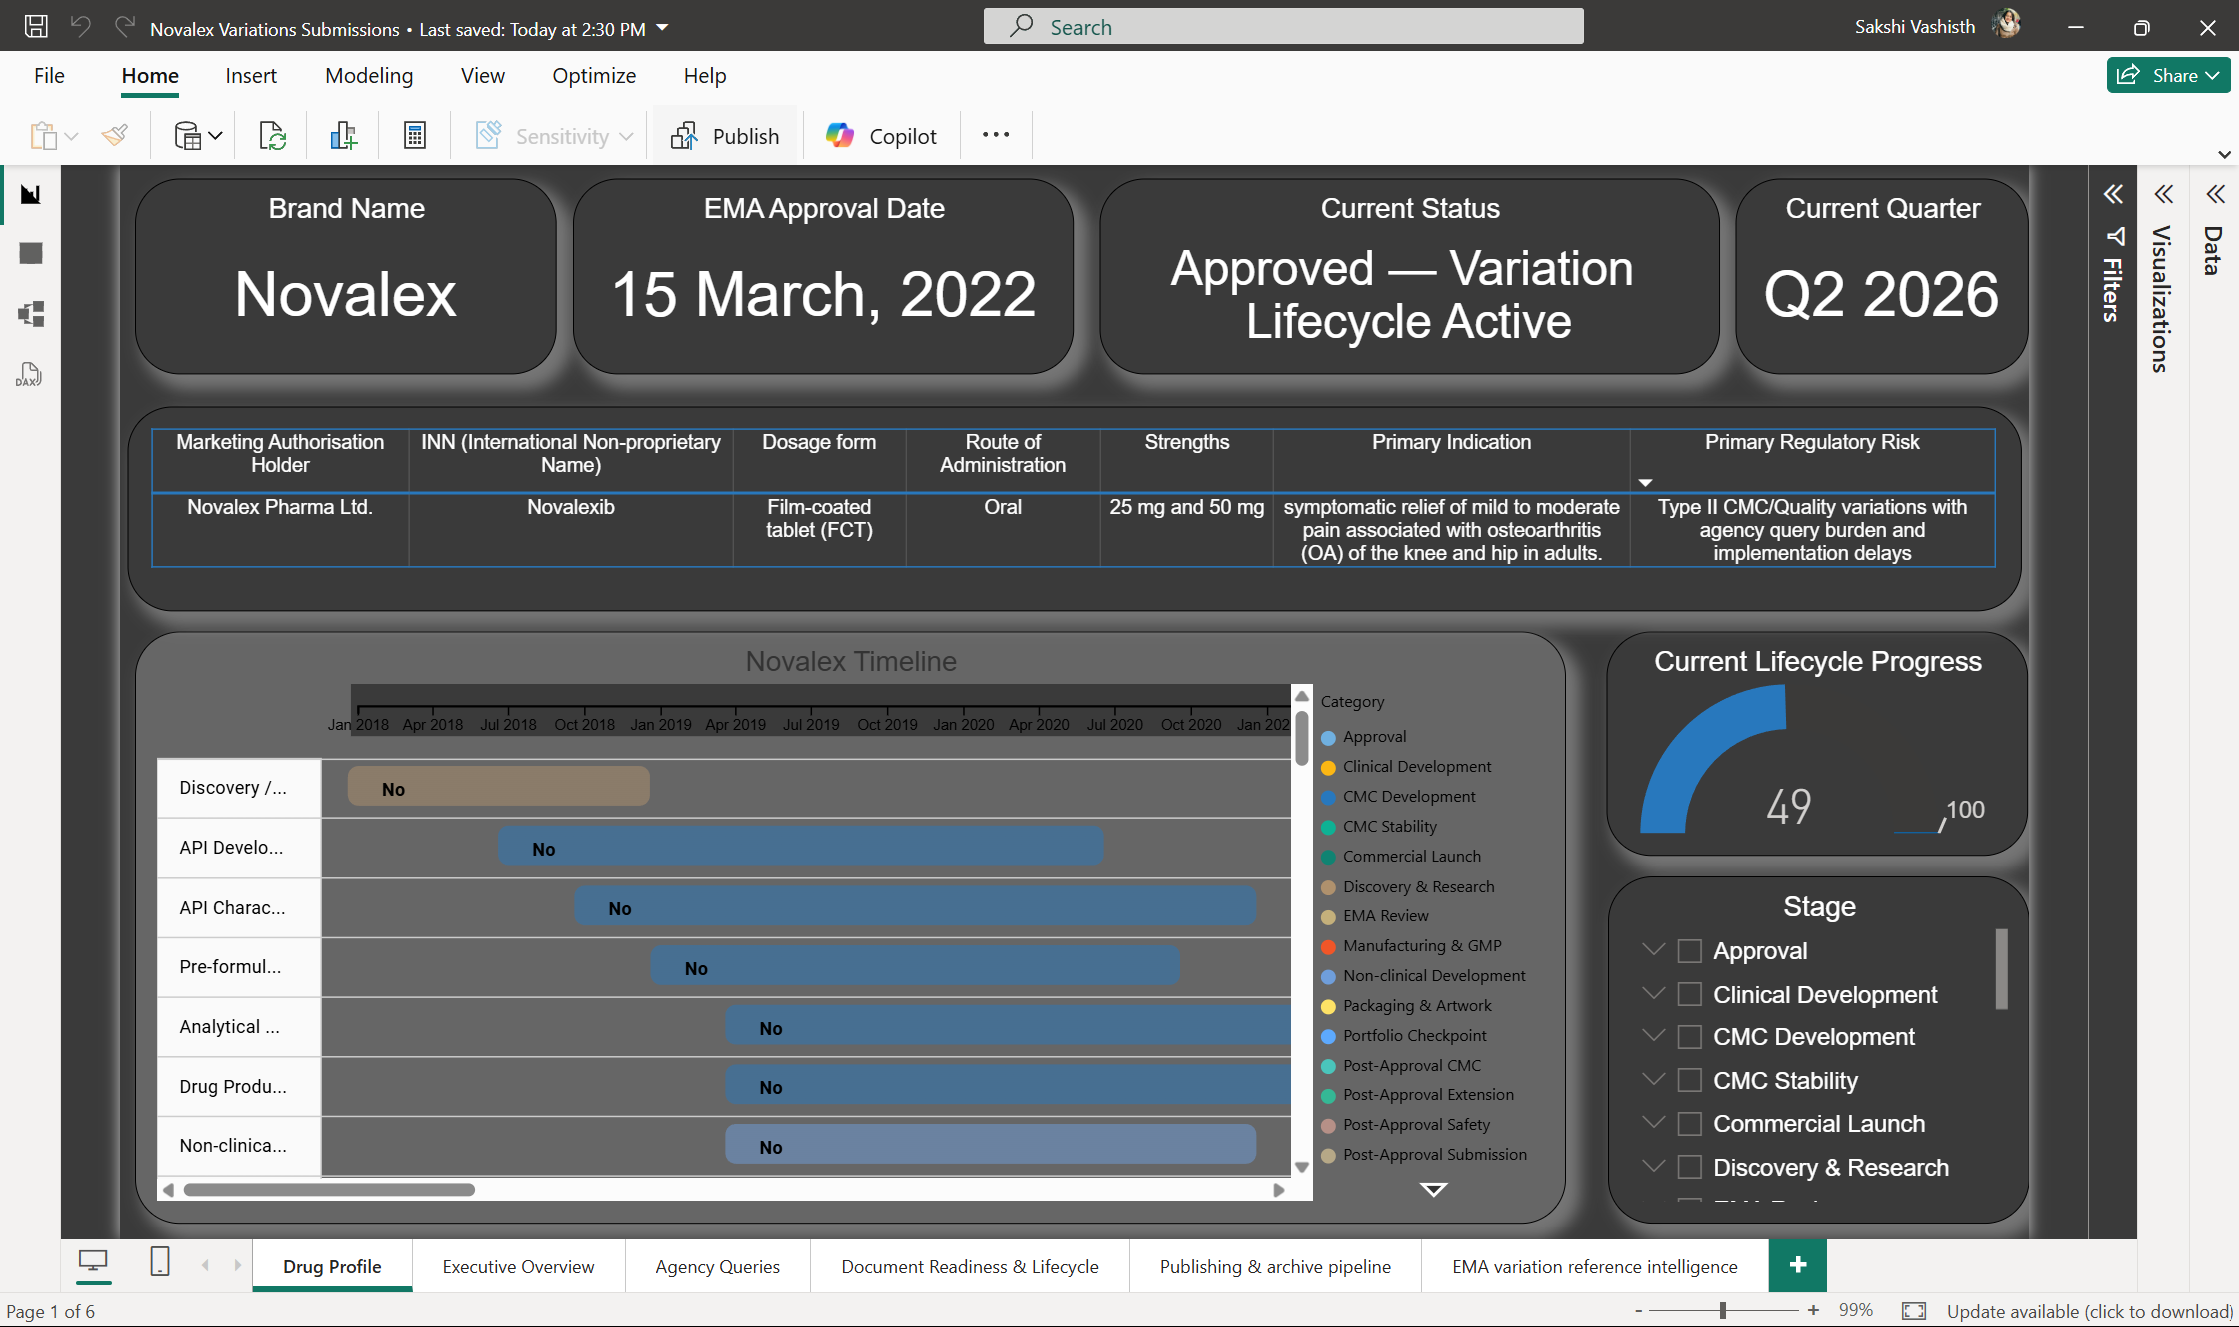

The dashboard page shown, as its layout file describes it:
{"tool":"powerbi","page":{"name":"Drug Profile","canvas":[1280,720],"ordinal":0},"visuals":[{"type":"Gantt1448688115699","title":"Novalex Timeline","fields":{"Task":["Sheet2.Task"],"StartDate":["Sheet2.Start Date"],"EndDate":["Min(Sheet2.End Date)"],"Legend":["Sheet2.Category"],"ExtraInformation":["Sheet2.Status"],"Resource":["Sheet2.Milestone"]},"box":[9.8,313,959.4,397.2],"z":0},{"type":"gauge","title":"Current Lifecycle Progress","fields":{"Y":["Sum(Drug Current Status.Overall Progress %)"],"MinValue":["Drug Current Status.Gauge Min"],"MaxValue":["Drug Current Status.Gauge Max"],"TargetValue":["Drug Current Status.Gauge Target"]},"box":[996.7,313,282.9,150.7],"z":1000},{"type":"slicer","title":"Stage","fields":{"Values":["Sheet2.Category","Sheet2.Task","Sheet2.Milestone","Sheet2.Status"]},"box":[997.3,476.4,282.7,233.6],"z":2000},{"type":"card","title":"Brand Name","fields":{"Values":["Min(Drug Current Status.Drug Name)"]},"box":[9.8,8.9,282.9,131.2],"z":3000},{"type":"card","title":"EMA Approval Date","fields":{"Values":["Min(Drug Current Status.EMA Approval Date)"]},"box":[304.1,8.9,336.1,131.2],"z":4000},{"type":"card","title":"Current Status","fields":{"Values":["Min(Drug Current Status.Current Status)"]},"box":[656.2,8.9,415.9,131.2],"z":5000},{"type":"card","title":"Current Quarter","fields":{"Values":["Min(Drug Current Status.Current Quarter)"]},"box":[1082.7,8.9,196.8,131.2],"z":6000},{"type":"tableEx","fields":{"Values":["Drug information.Marketing_Authorisation_Holder","Drug information.INN (International Non-proprietary Name)","Drug information.Dosage form","Drug information.Route of Administration","Drug information.Strengths","Drug information.Primary Indication","Drug information.Primary_Regulatory_Risk"]},"box":[5.3,162.3,1269.8,137.4],"z":7000}]}

Visuals, with their boxes on the page's 1280x720 design canvas (x1, y1, x2, y2). These are canvas units, not pixel positions in the 2239x1327 screenshot, which may show the page scaled, cropped or inside an application window:
"Novalex Timeline" Gantt1448688115699: 10,313,969,710
"Current Lifecycle Progress" gauge: 997,313,1280,464
"Stage" slicer: 997,476,1280,710
"Brand Name" card: 10,9,293,140
"EMA Approval Date" card: 304,9,640,140
"Current Status" card: 656,9,1072,140
"Current Quarter" card: 1083,9,1280,140
tableEx - Drug information.Marketing_Authorisation_Holder x Drug information.INN (International Non-proprietary Name): 5,162,1275,300
